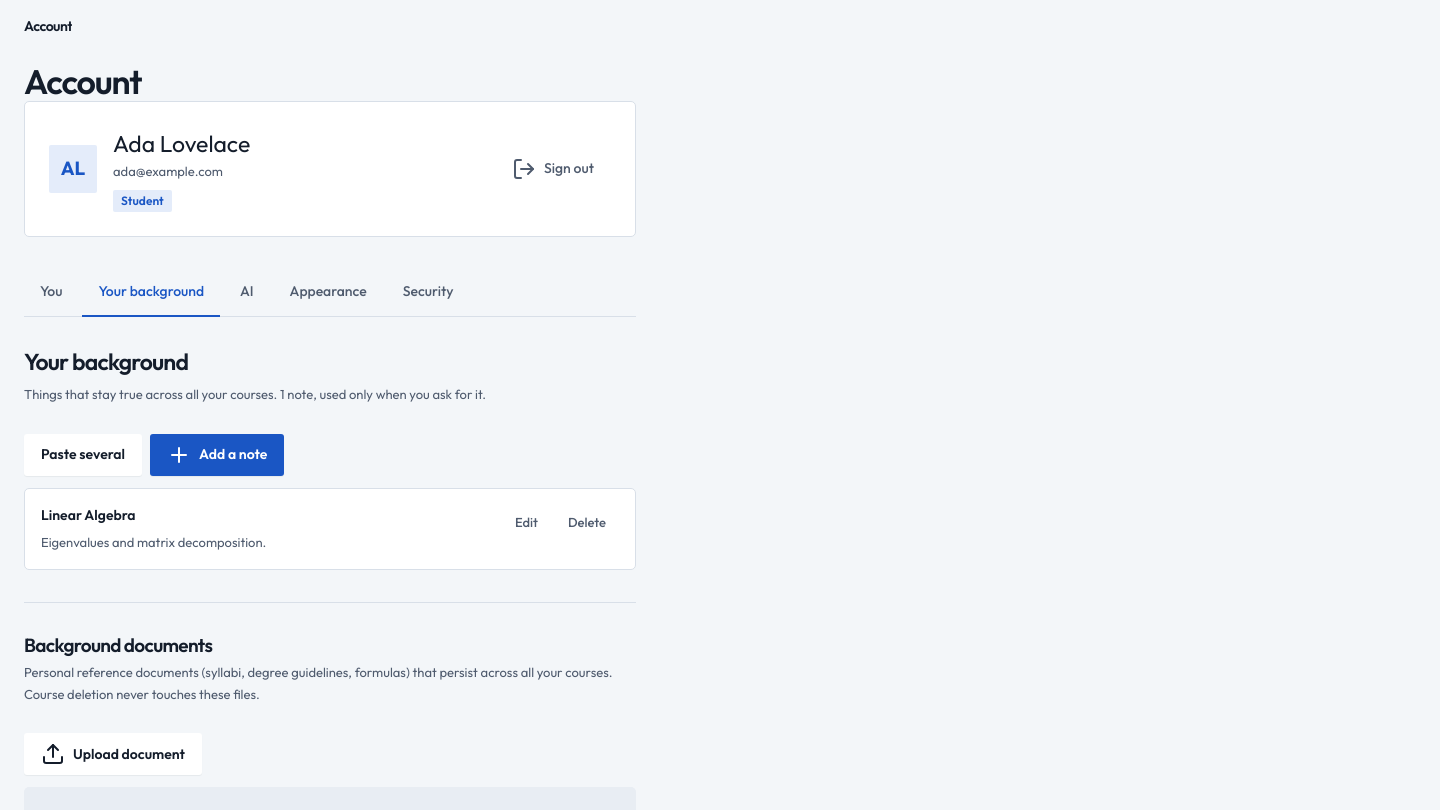
it: AccountPage › allows deleting a knowledge topic
Expected: the text "Linear Algebra" is shown, [41,506,136,524]
Click the button with aria-label "Delete Linear Algebra": (587, 522) [555,505,619,539]
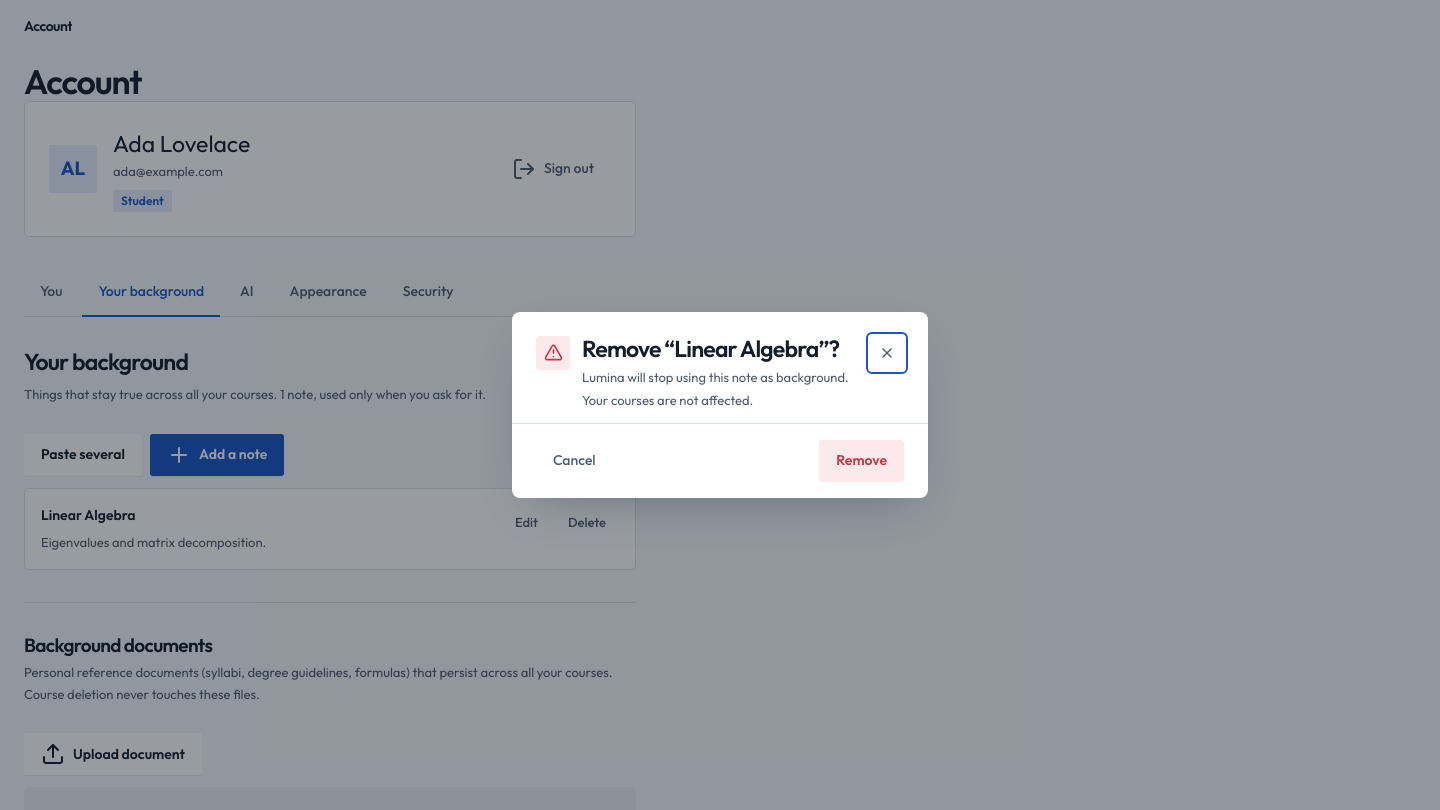
Click the button "Remove": (862, 461) [819,440,904,482]
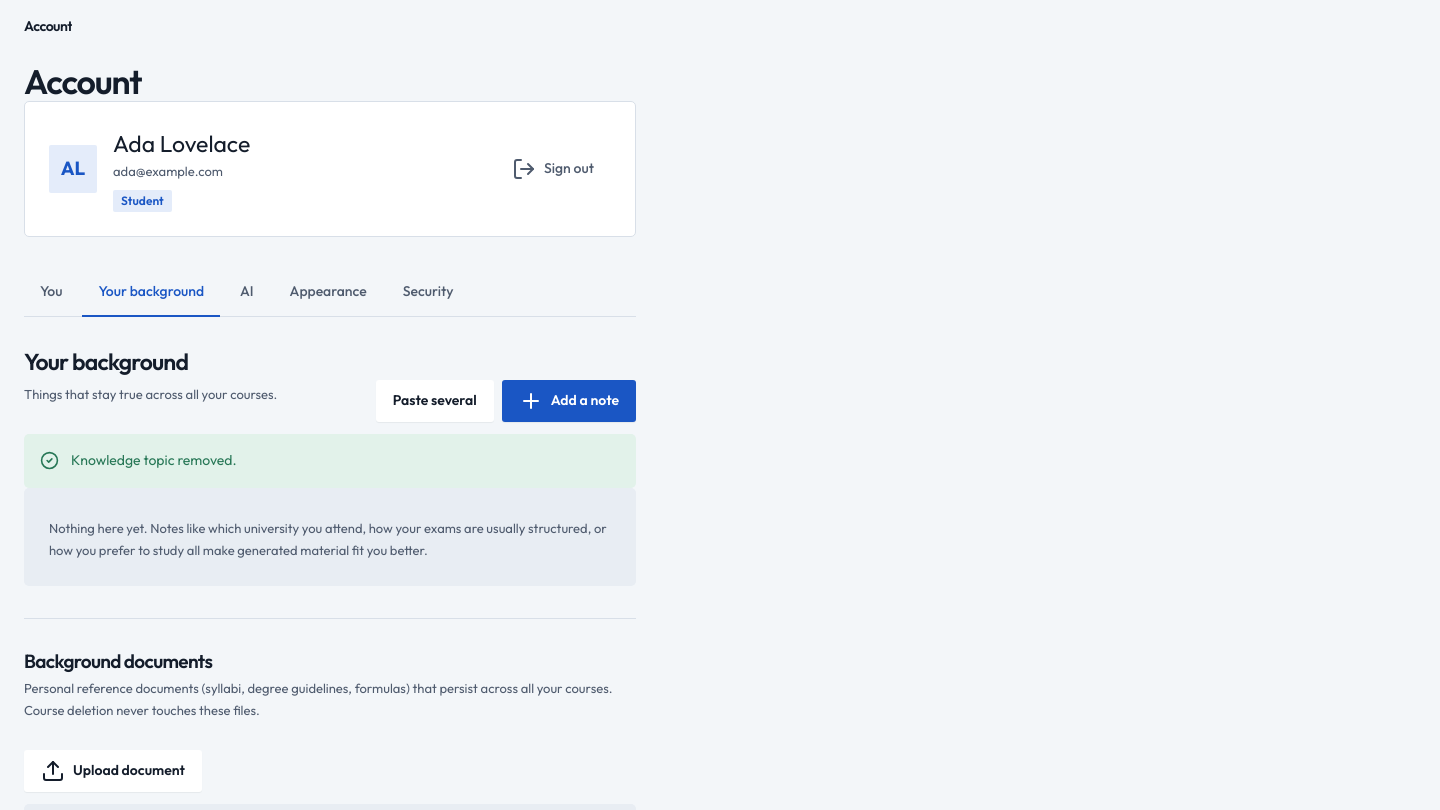
Expected: the text "Eigenvalues and matrix decomposition." is gone
Expected: the text "Knowledge topic removed." is shown, [71,451,237,469]
